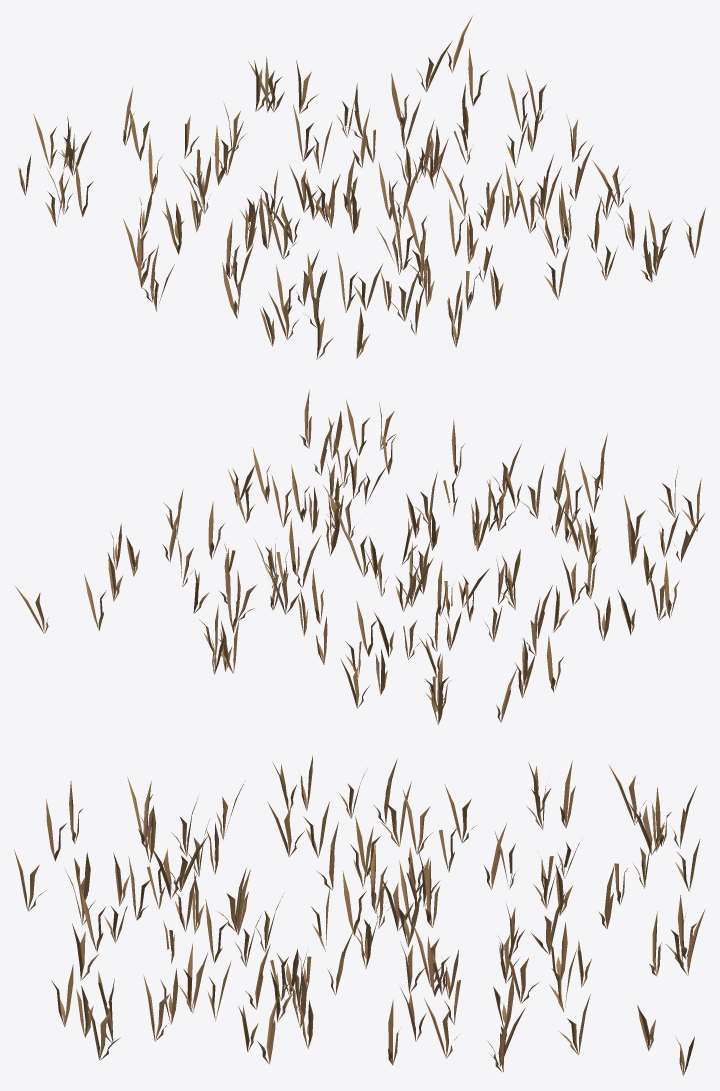
File: environment_grass_plane_b.fbx
3 views of the same model, one above another, from view 1: azimuth 30°, elevation 25°; view 2: azimuth 150°, elevation 25°; view 3: azimuth 270°, elevation 25° (orthographic). The views are drawn at different scales.
Parts seen in each view (by area): view 1: Grass_plane_b1; view 2: Grass_plane_b1; view 3: Grass_plane_b1.
Part boxes in pixels (bbox=[...]): Grass_plane_b1: bbox=[18, 16, 705, 359]; Grass_plane_b1: bbox=[15, 389, 704, 724]; Grass_plane_b1: bbox=[14, 755, 705, 1075].
Bounding box in the file's own units: 1817 × 224 × 1894.
